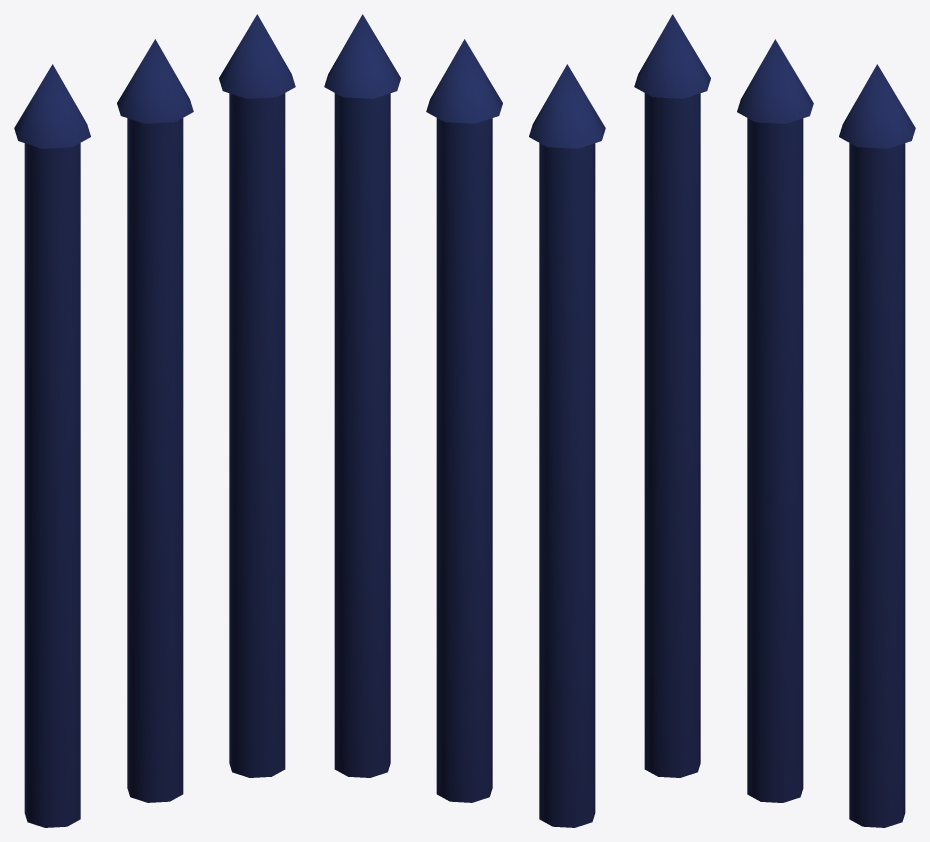
Rendered from doorBars.fbx.
3 renders of one model, left to right at view 1: azimuth 30°, elevation 25°; view 2: azimuth 150°, elevation 25°; view 3: azimuth 330°, elevation 25°, orthographic.
Visible parts, largest first — view 1: polySurface35; view 2: polySurface35; view 3: polySurface35.
Boxes of the visible parts, <box> form: polySurface35: <box>14,14,295,827</box>; polySurface35: <box>324,14,605,827</box>; polySurface35: <box>634,14,915,827</box>.
Size of the model in its own units: 68.98 by 181 by 17.41.
